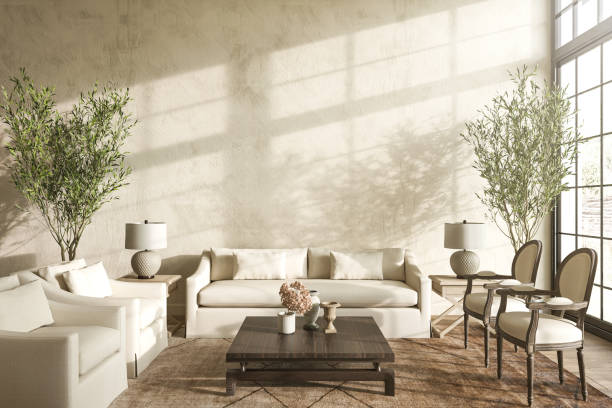chair: (0, 269, 130, 398), (493, 246, 599, 399), (37, 255, 170, 376), (463, 239, 544, 367)
flower vase: (275, 280, 310, 334)
large plant: (2, 65, 129, 258), (465, 63, 580, 237)
side table: (431, 276, 505, 337)
sofa: (182, 244, 434, 341)
table: (224, 314, 397, 397)
table lamp: (123, 216, 168, 280), (440, 218, 486, 279)
